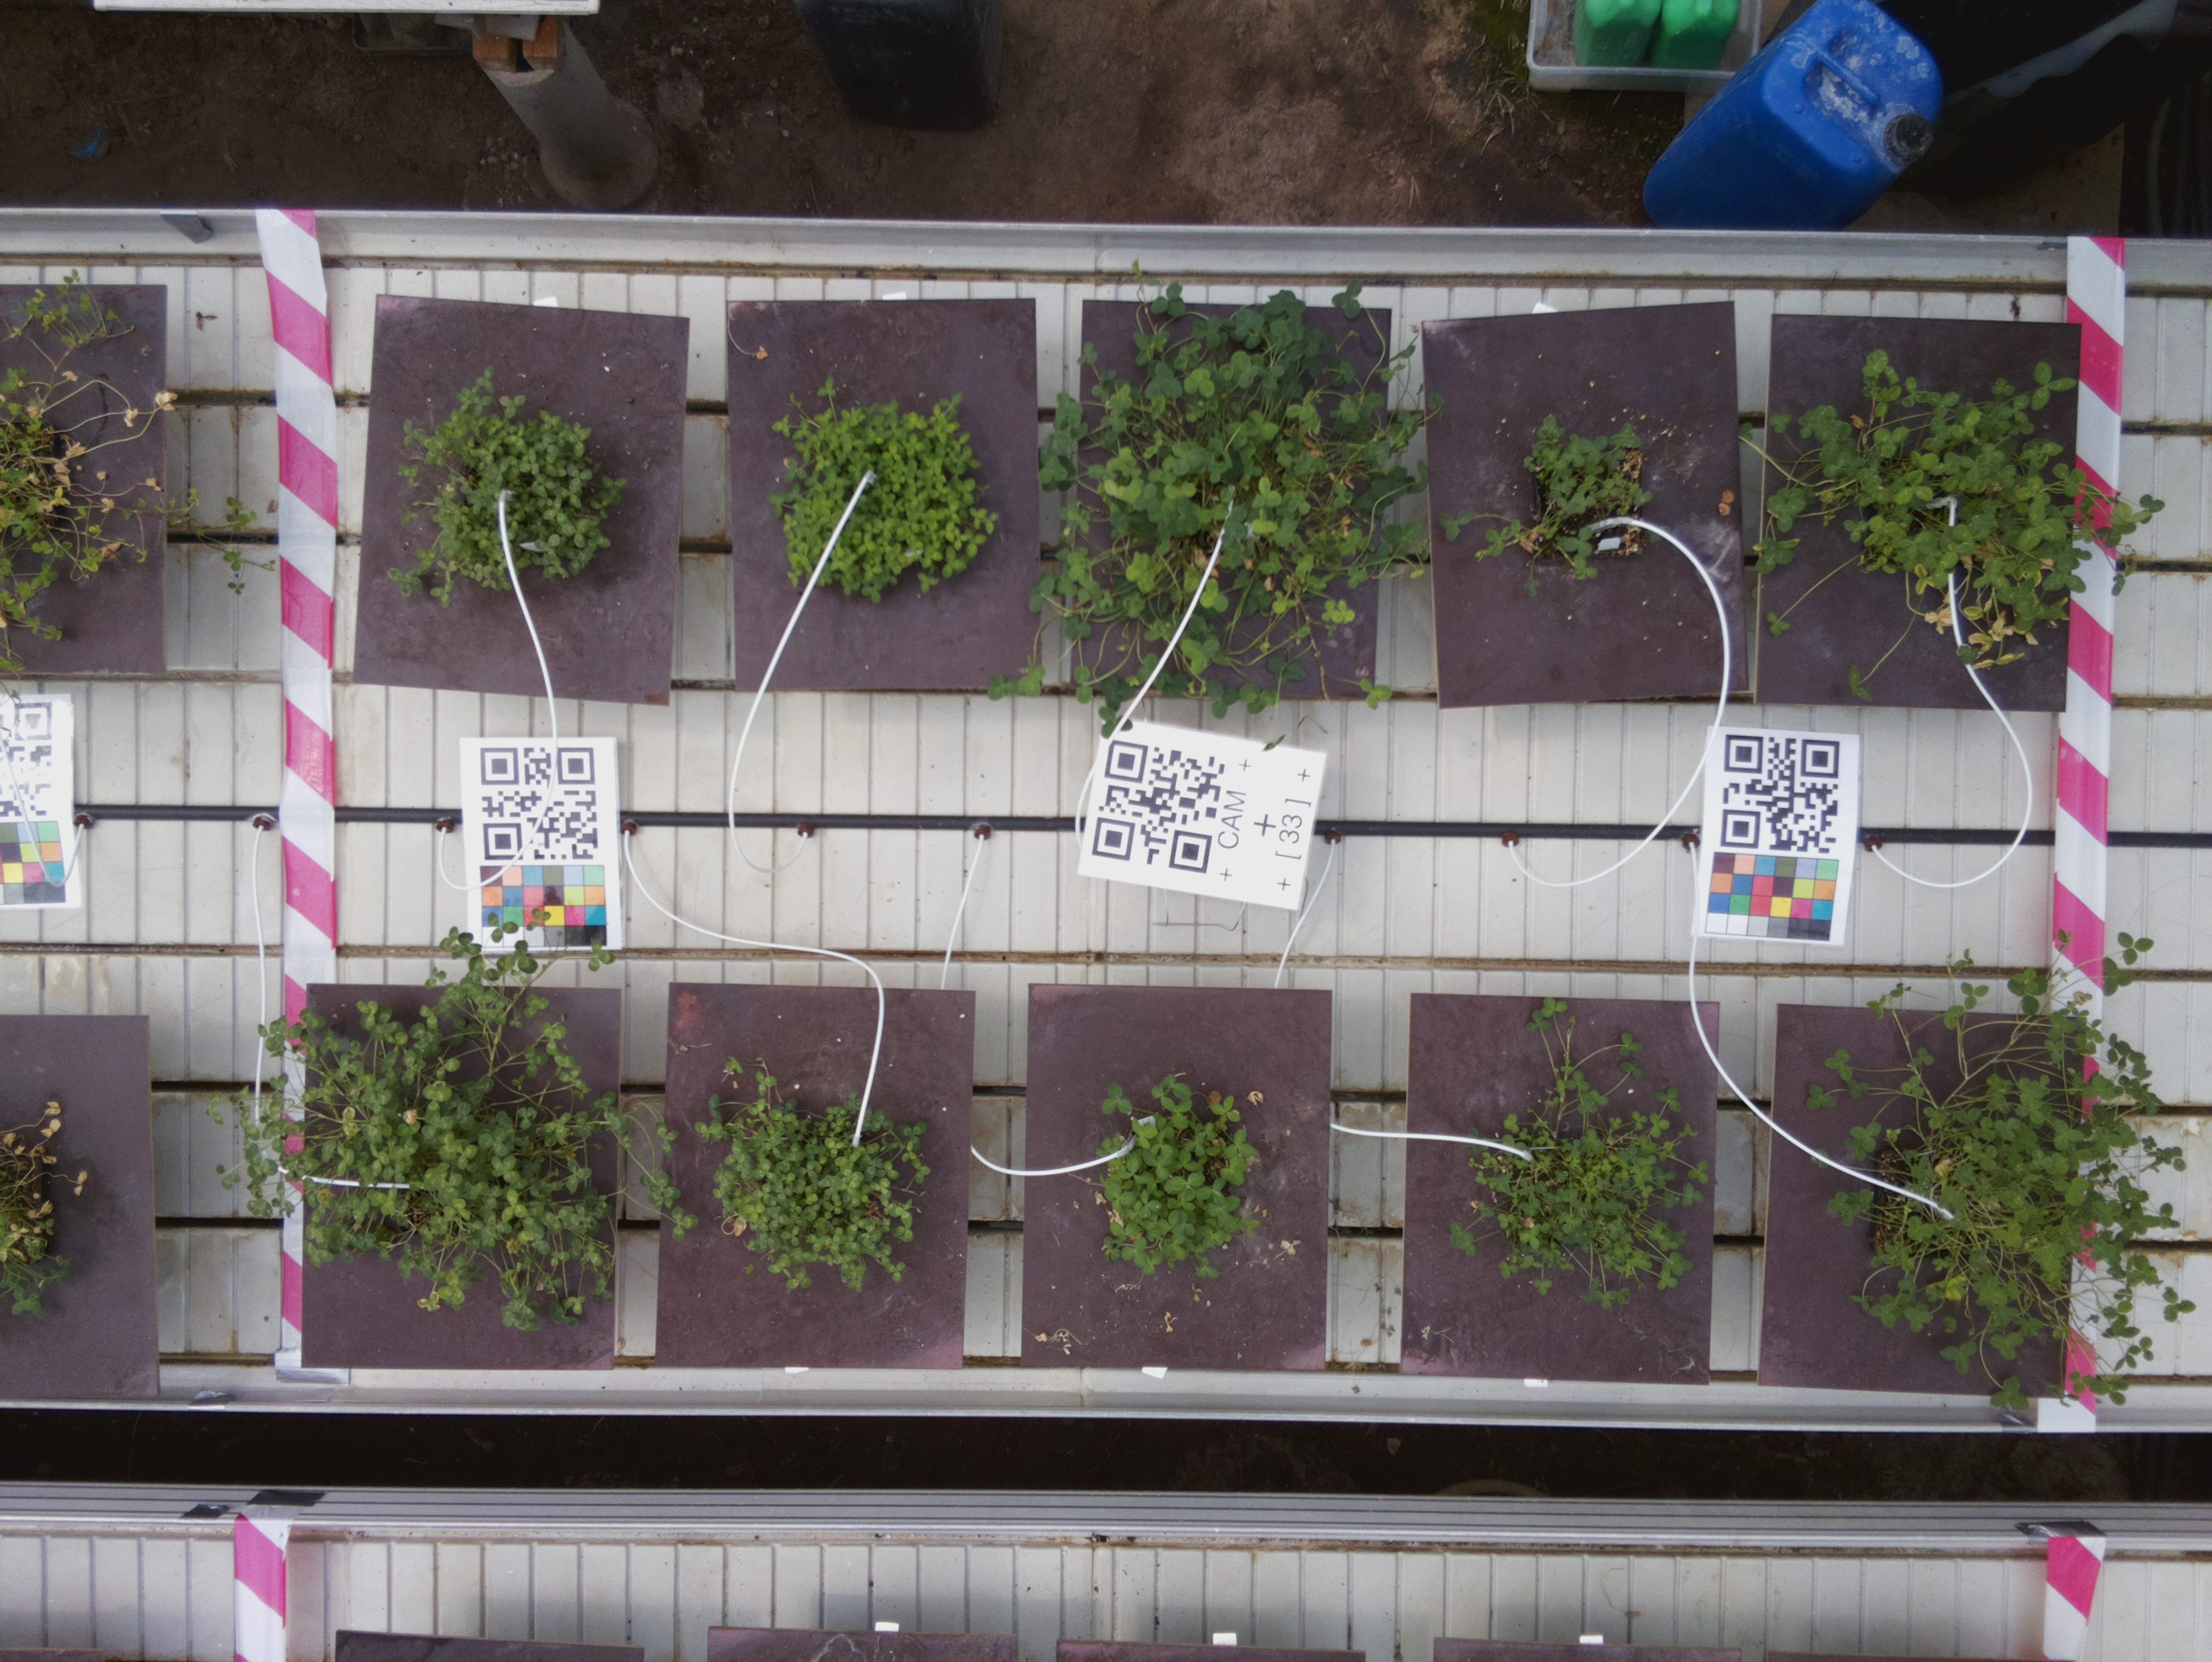POT: (361, 292, 688, 704), (723, 299, 1044, 700), (1755, 999, 2078, 1395), (1767, 311, 2079, 709), (1405, 985, 1713, 1388), (307, 978, 620, 1370), (1423, 323, 1748, 697), (658, 983, 971, 1369), (1081, 299, 1376, 698), (1028, 985, 1334, 1370)
QRCODE: (1079, 718, 1329, 911)
QRCOLOR: (1700, 723, 1859, 948), (457, 737, 620, 950)
